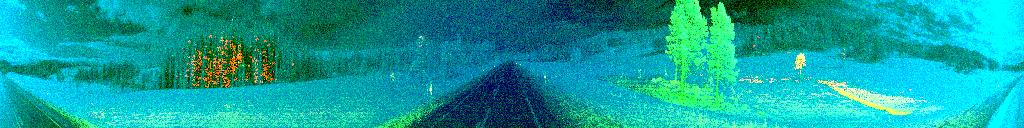pole: (428, 79, 434, 105), (543, 66, 547, 92)
